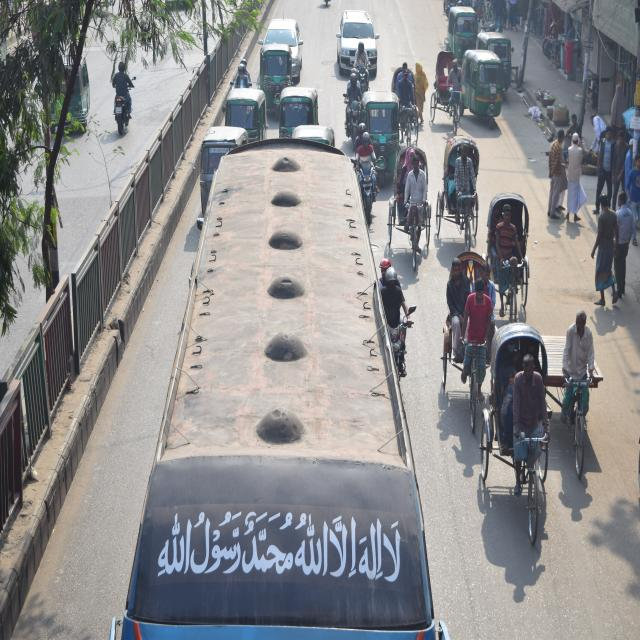bus: (155, 147, 351, 640)
car: (263, 17, 302, 76), (341, 13, 374, 74)
motorbike: (382, 314, 410, 389), (358, 161, 378, 224), (108, 91, 130, 142), (346, 98, 361, 150), (356, 56, 369, 101)
